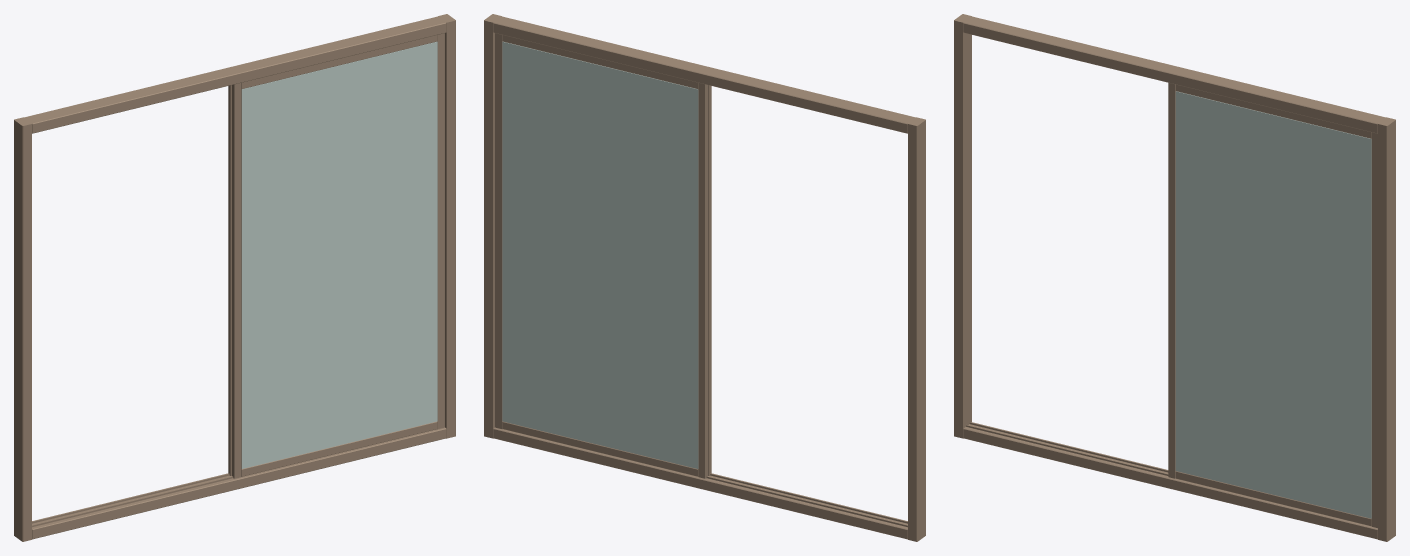
File: co-S86RP-2-quartz-1019-ouvert.glb
3 renders of one model, left to right at view 1: azimuth 30°, elevation 25°; view 2: azimuth 150°, elevation 25°; view 3: azimuth 330°, elevation 25°, orthographic.
Visible parts, largest first — view 1: verre, structure; view 2: verre, structure; view 3: verre, structure.
Part boxes in pixels (x1,y1,x2,y2): verre: [241, 41, 437, 468]; structure: [14, 14, 455, 541]; verre: [502, 41, 698, 468]; structure: [484, 14, 925, 541]; verre: [1175, 91, 1371, 518]; structure: [954, 14, 1395, 541].
Bounding box in the file's own units: 2.4 × 2.2 × 0.086.
